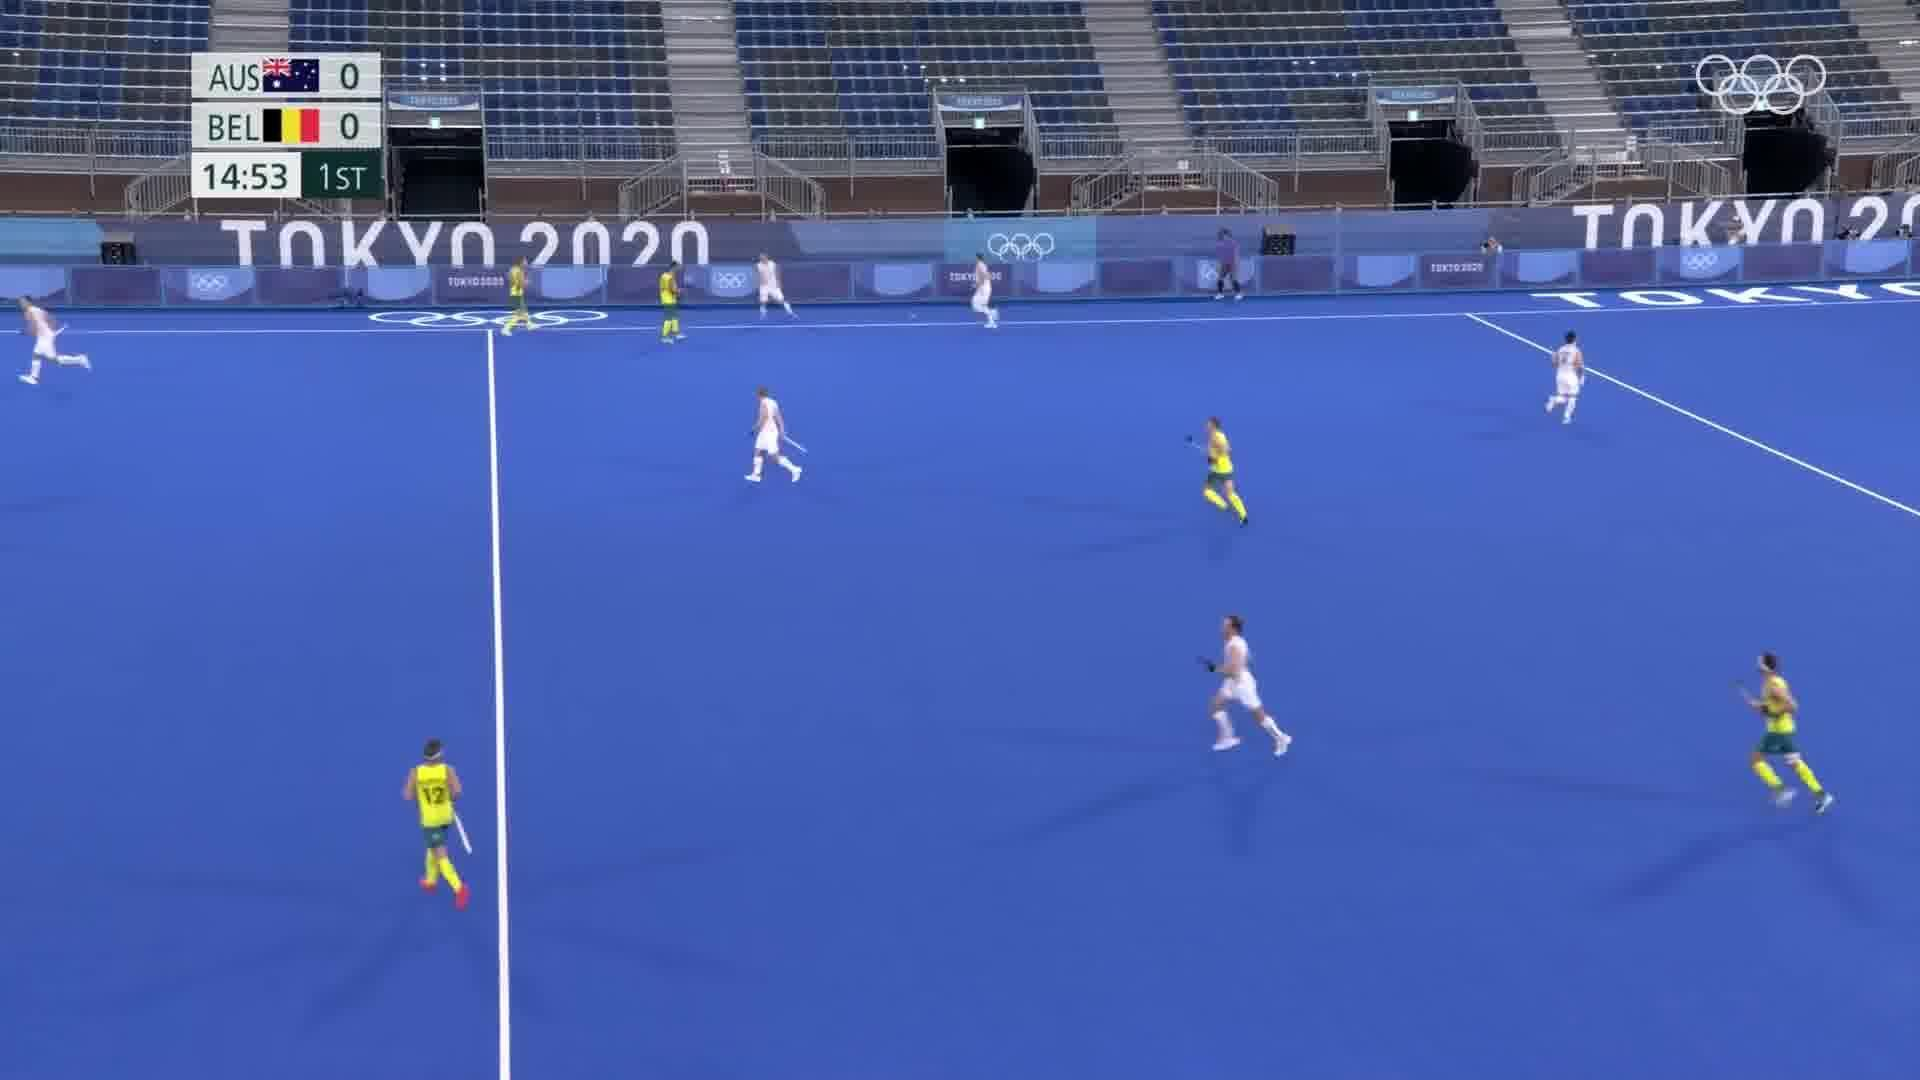ball: (899, 305, 926, 320)
